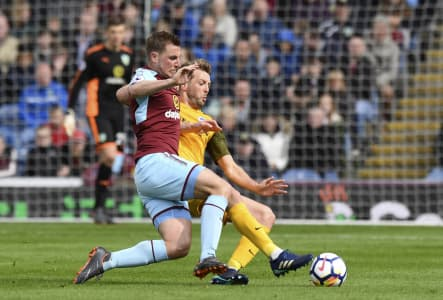soccer player: (73, 29, 249, 286), (182, 59, 313, 279)
soccerball: (310, 251, 348, 290)
